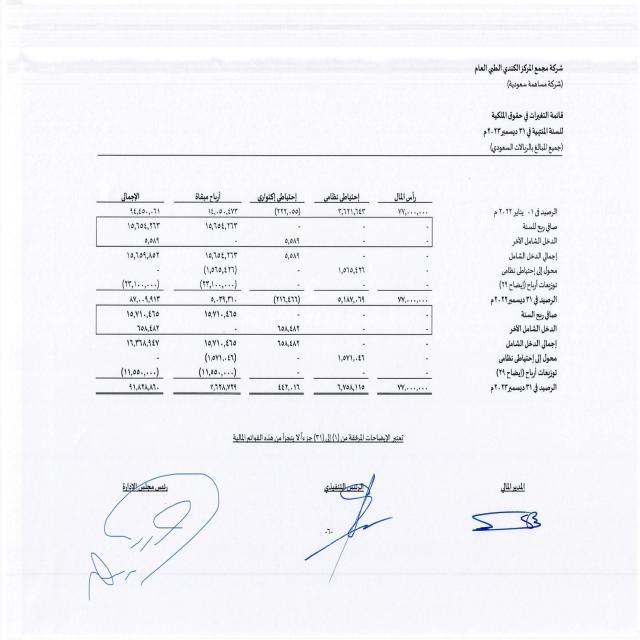financial_sheets: (488, 106, 566, 124)
table: (76, 175, 453, 420)
